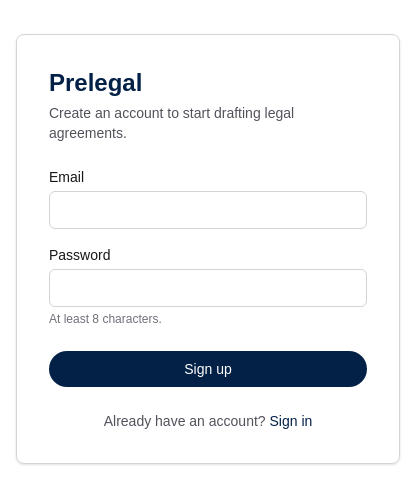
Test: SignupPage › shows an error message when sign-up fails
Type "jane@example.com" into the field labelled "Email".
click(208, 210); type("jane@example.com")  # box [49,191,367,229]
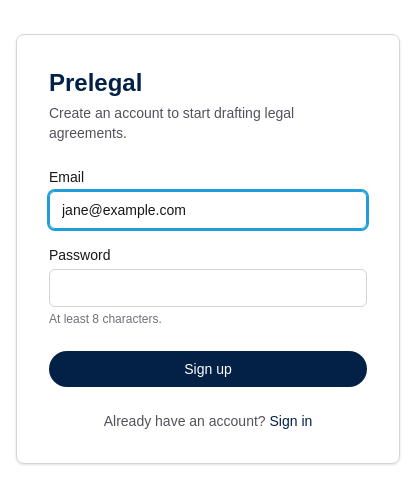
Type "correct-horse" into the password field labelled "Password".
click(208, 288); type("correct-horse")  # box [49,269,367,307]
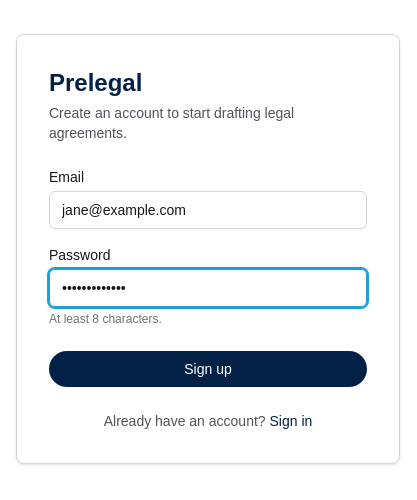
Click the button "Sign up".
click(208, 369)  # box [49,351,367,387]
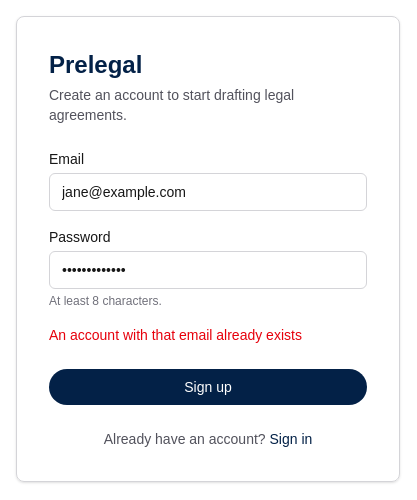
Expected: the text "An account with that email already exists" is shown, [49,327,302,343]
